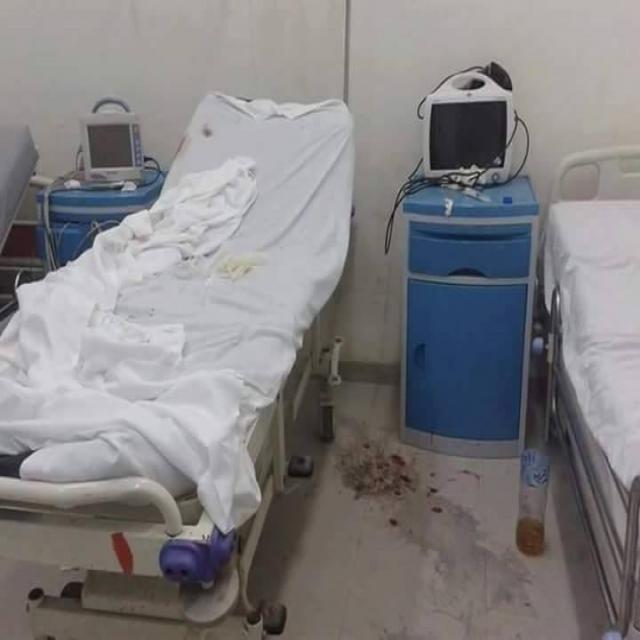bed: (19, 90, 367, 530)
table: (398, 181, 539, 474)
television: (420, 74, 523, 198)
